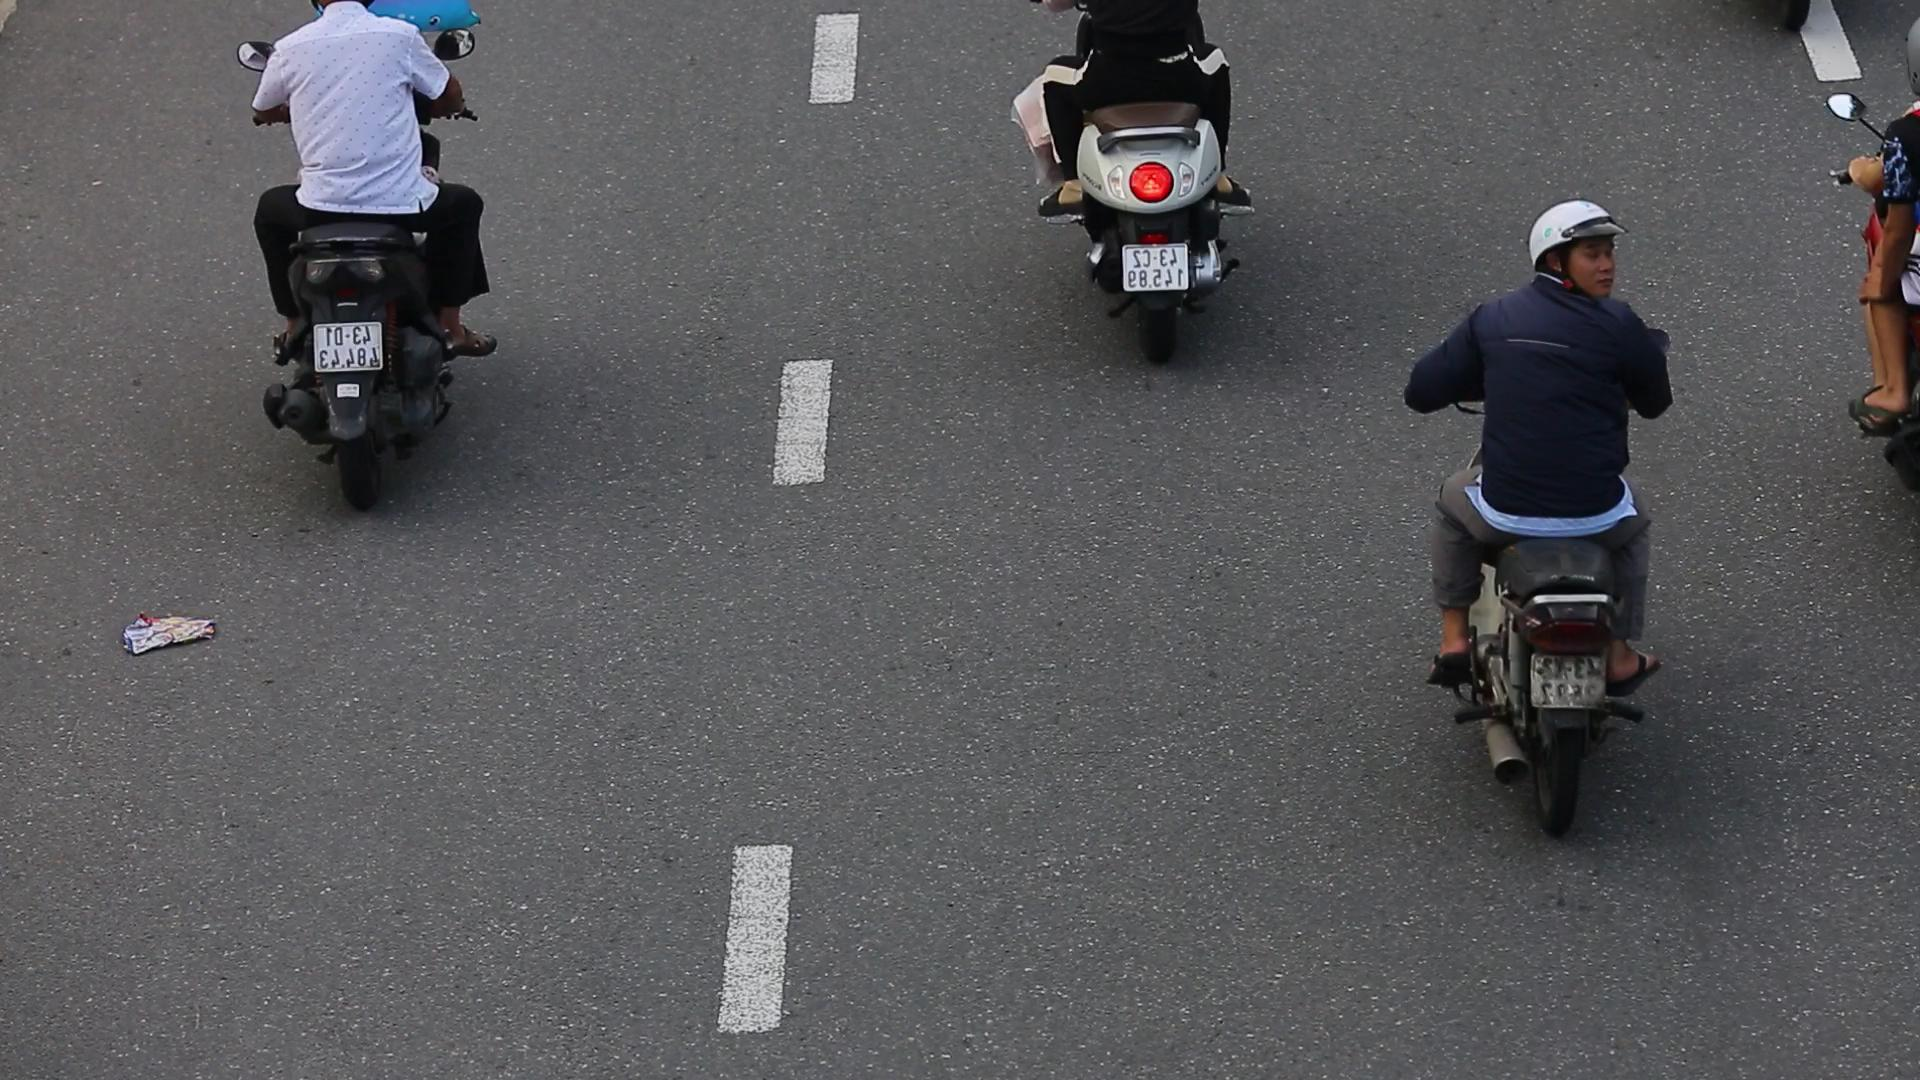motobike: (1349, 138, 1712, 849)
